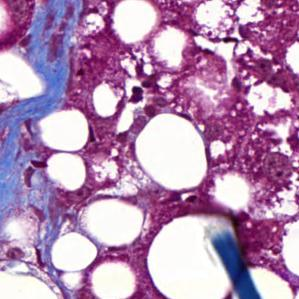steatosis: (138, 107, 209, 195)
